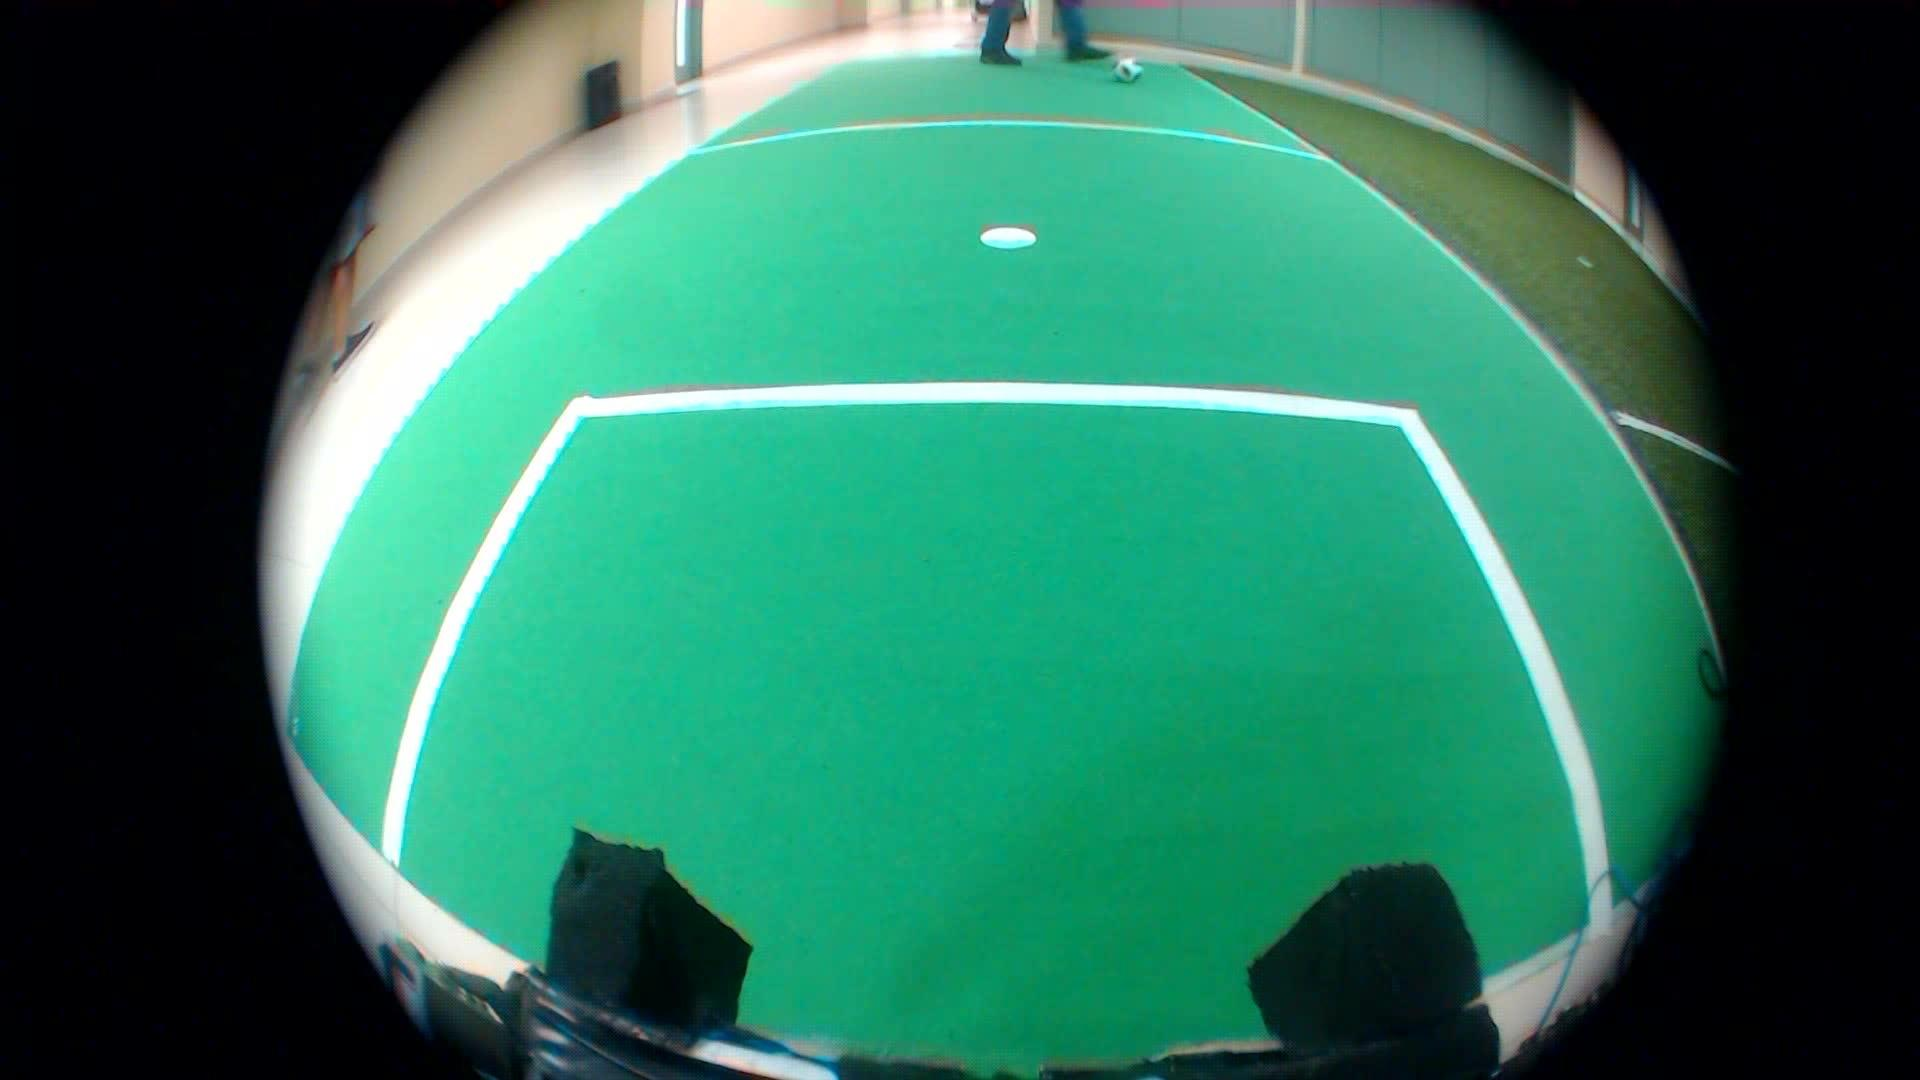ball: (1112, 47, 1147, 84)
